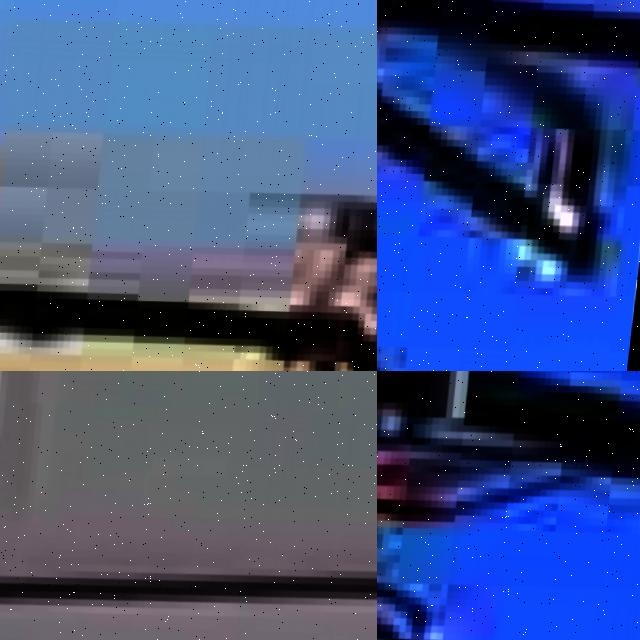drone: (0, 0, 377, 371), (0, 371, 377, 640), (377, 0, 640, 371), (377, 371, 640, 640)
